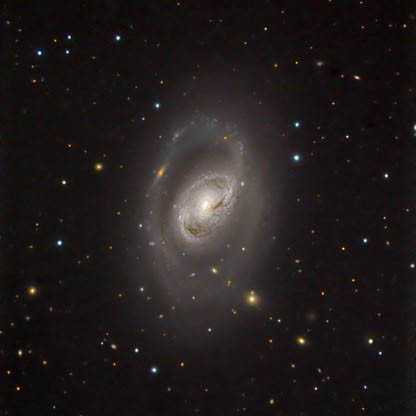Messier 96: (110, 70, 288, 347)
